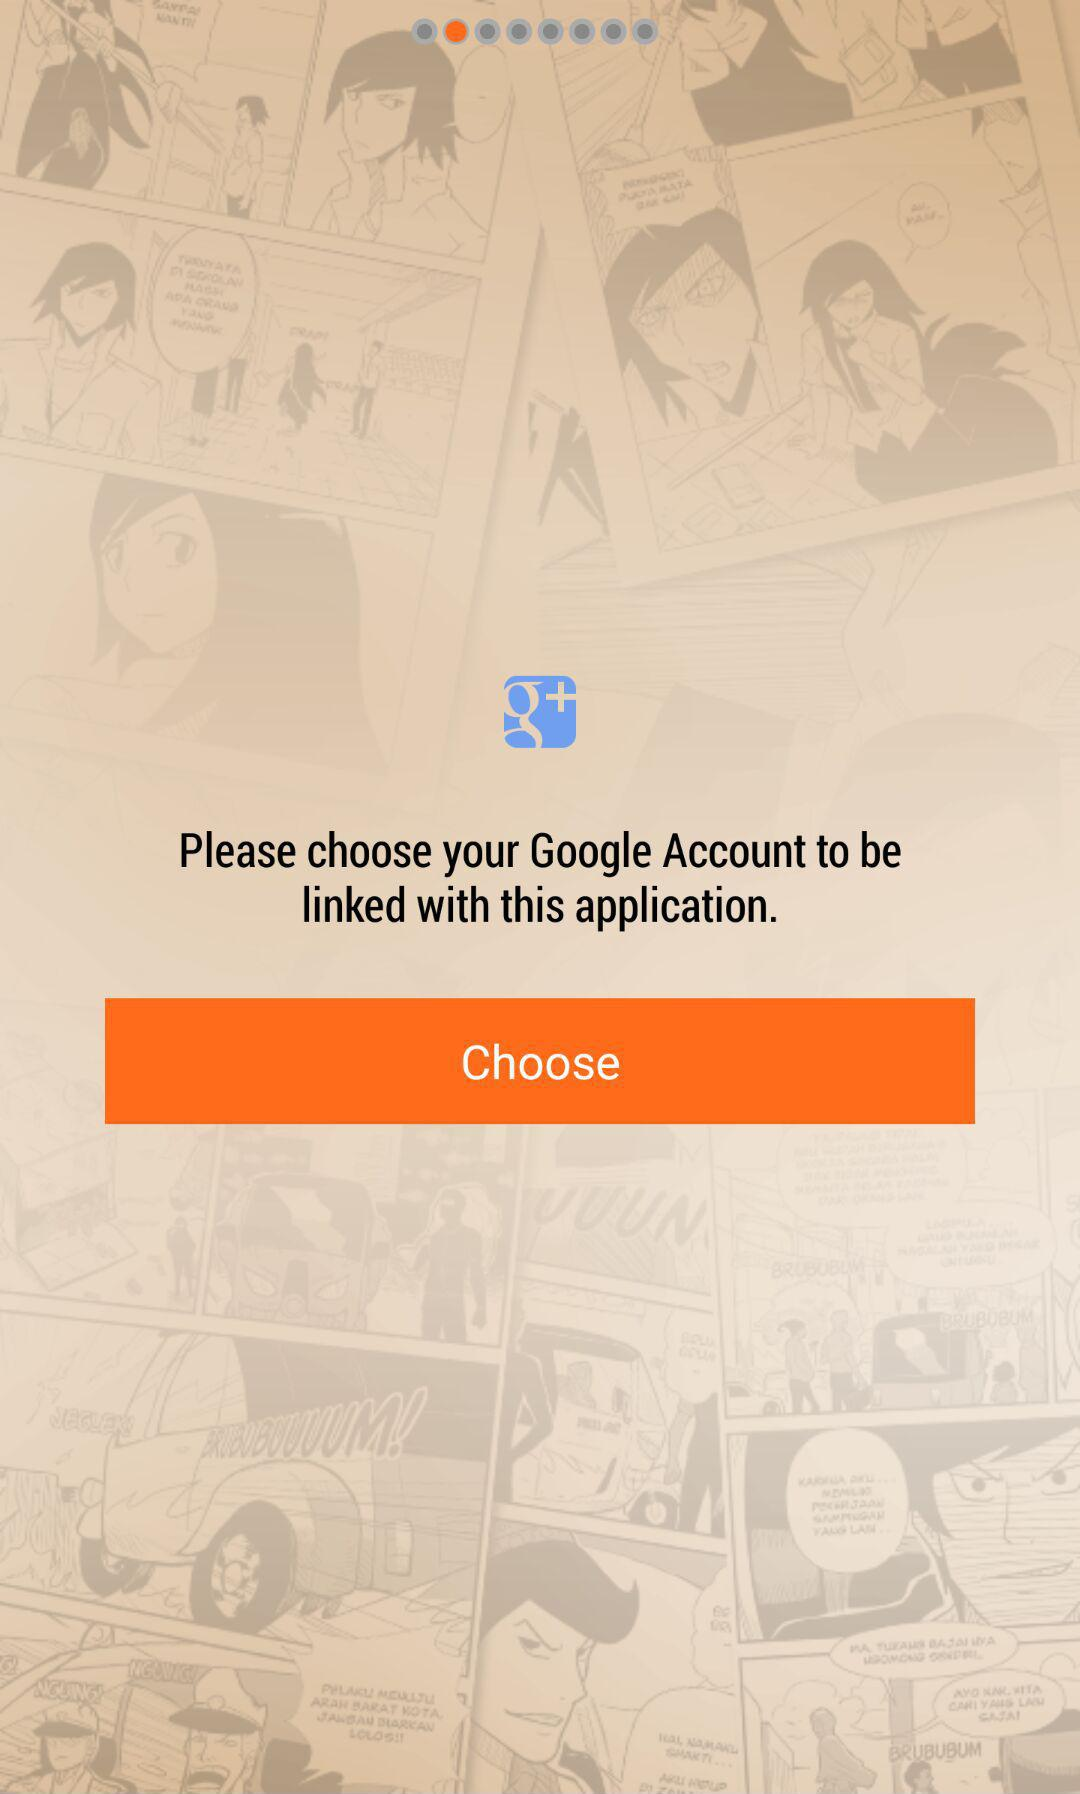BackgroundImage: (1, 1, 1080, 1794)
Icon: (503, 677, 577, 750)
PageIndicator: (410, 17, 660, 47)
Text: (181, 830, 902, 933)
TextButton: (105, 998, 976, 1125)
